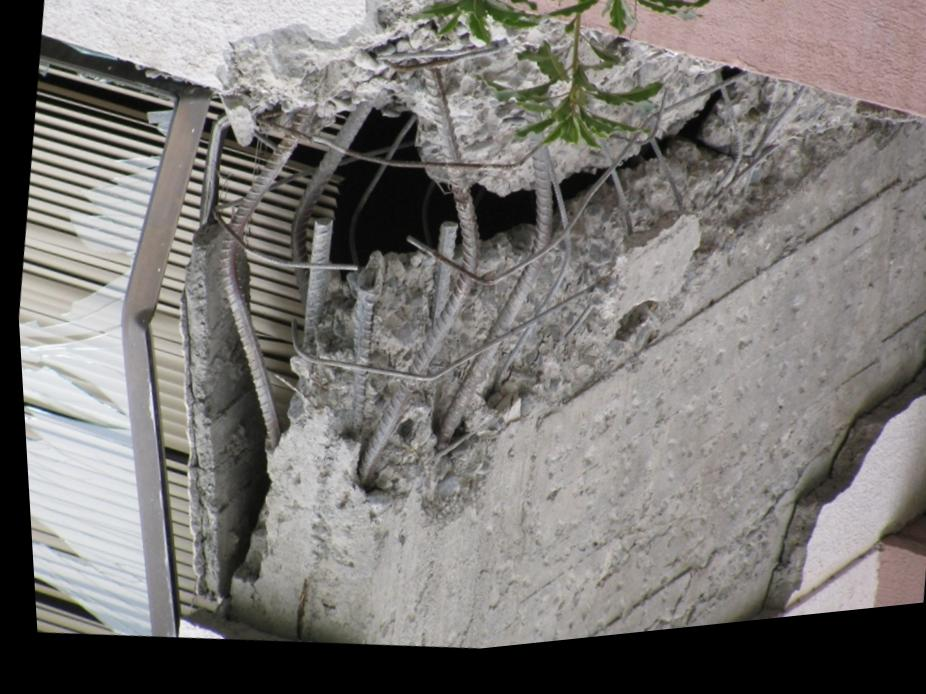crack: (555, 80, 741, 214)
damage: (216, 2, 906, 537)
